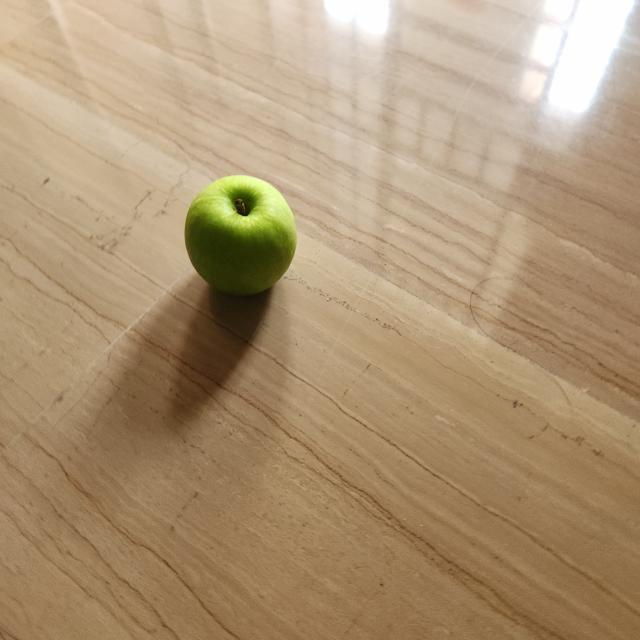apple: (182, 171, 300, 310)
